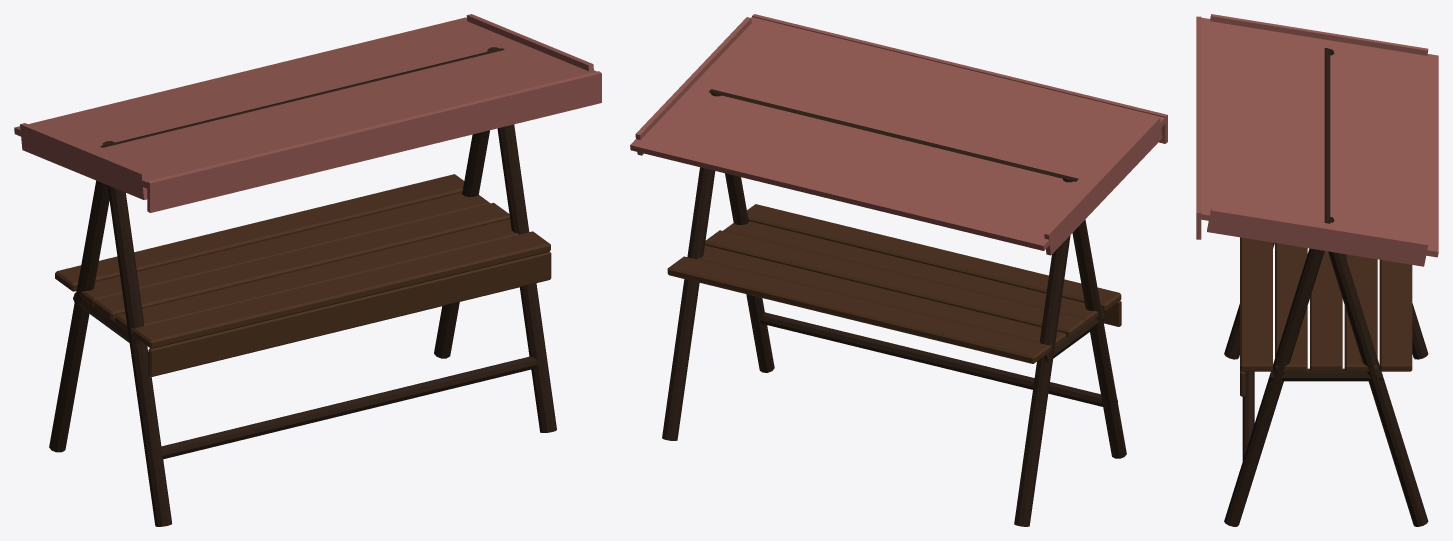
Rendered from 集市摊位-stall.glb.
The picture shows the model from 3 angles, left to right: view 1: azimuth 30°, elevation 25°; view 2: azimuth 150°, elevation 25°; view 3: azimuth 270°, elevation 25°; orthographic projection. The views are drawn at different scales.
Parts seen in each view (by area): view 1: Canopy, Valance, SkirtBoard, Plank_0, Plank_2, Plank_4, Plank_1, Plank_3, Leg_F_L, Stretcher_Front, Leg_F_R, Leg_B_L (+4 smaller); view 2: Canopy, Plank_4, Plank_2, Plank_0, Plank_3, Plank_1, Leg_B_L, Stretcher_Front, Leg_B_R, Leg_F_L, SideFlap_L, Leg_F_R (+3 smaller); view 3: Canopy, SideFlap_R, Leg_F_R, Leg_B_R, Plank_0, Plank_4, Plank_2, Plank_1, Plank_3, SideFlap_L, Valance, RidgePole (+4 smaller).
Boxes of the visible parts, x1,y1,x2,y2 form: Canopy: (14, 17, 596, 189); Valance: (147, 71, 601, 212); SkirtBoard: (148, 251, 551, 377); Plank_0: (133, 231, 550, 348); Plank_2: (94, 202, 509, 320); Plank_4: (55, 174, 464, 291); Plank_1: (115, 219, 529, 333); Plank_3: (76, 193, 490, 306); Leg_F_L: (107, 185, 172, 526); Stretcher_Front: (151, 356, 547, 459); Leg_F_R: (497, 124, 556, 432); Leg_B_L: (49, 141, 115, 452); Canopy: (630, 17, 1166, 250); Plank_4: (667, 256, 1049, 363); Plank_2: (705, 230, 1085, 337); Plank_0: (747, 204, 1121, 311); Plank_3: (687, 245, 1066, 349); Plank_1: (723, 221, 1101, 325); Leg_B_L: (1014, 177, 1074, 526); Stretcher_Front: (760, 312, 1117, 406); Leg_B_R: (662, 91, 722, 440); Leg_F_L: (1072, 219, 1126, 458); SideFlap_L: (1044, 117, 1162, 255); Leg_F_R: (725, 173, 774, 372); Canopy: (1196, 17, 1438, 257); SideFlap_R: (1207, 208, 1428, 266); Leg_F_R: (1224, 248, 1324, 526); Leg_B_R: (1328, 216, 1428, 526); Plank_0: (1240, 237, 1272, 371); Plank_4: (1379, 259, 1412, 371); Plank_2: (1310, 251, 1342, 371); Plank_1: (1275, 243, 1307, 372); Plank_3: (1344, 254, 1377, 372); SideFlap_L: (1210, 14, 1428, 55); Valance: (1196, 16, 1201, 239); RidgePole: (1324, 48, 1330, 223).
Size of the model in its own units: 2 by 1.56 by 1.04.
